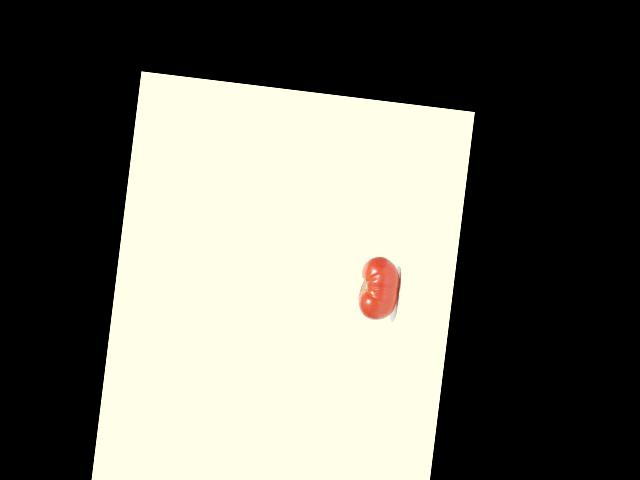tomato: (356, 254, 402, 321)
